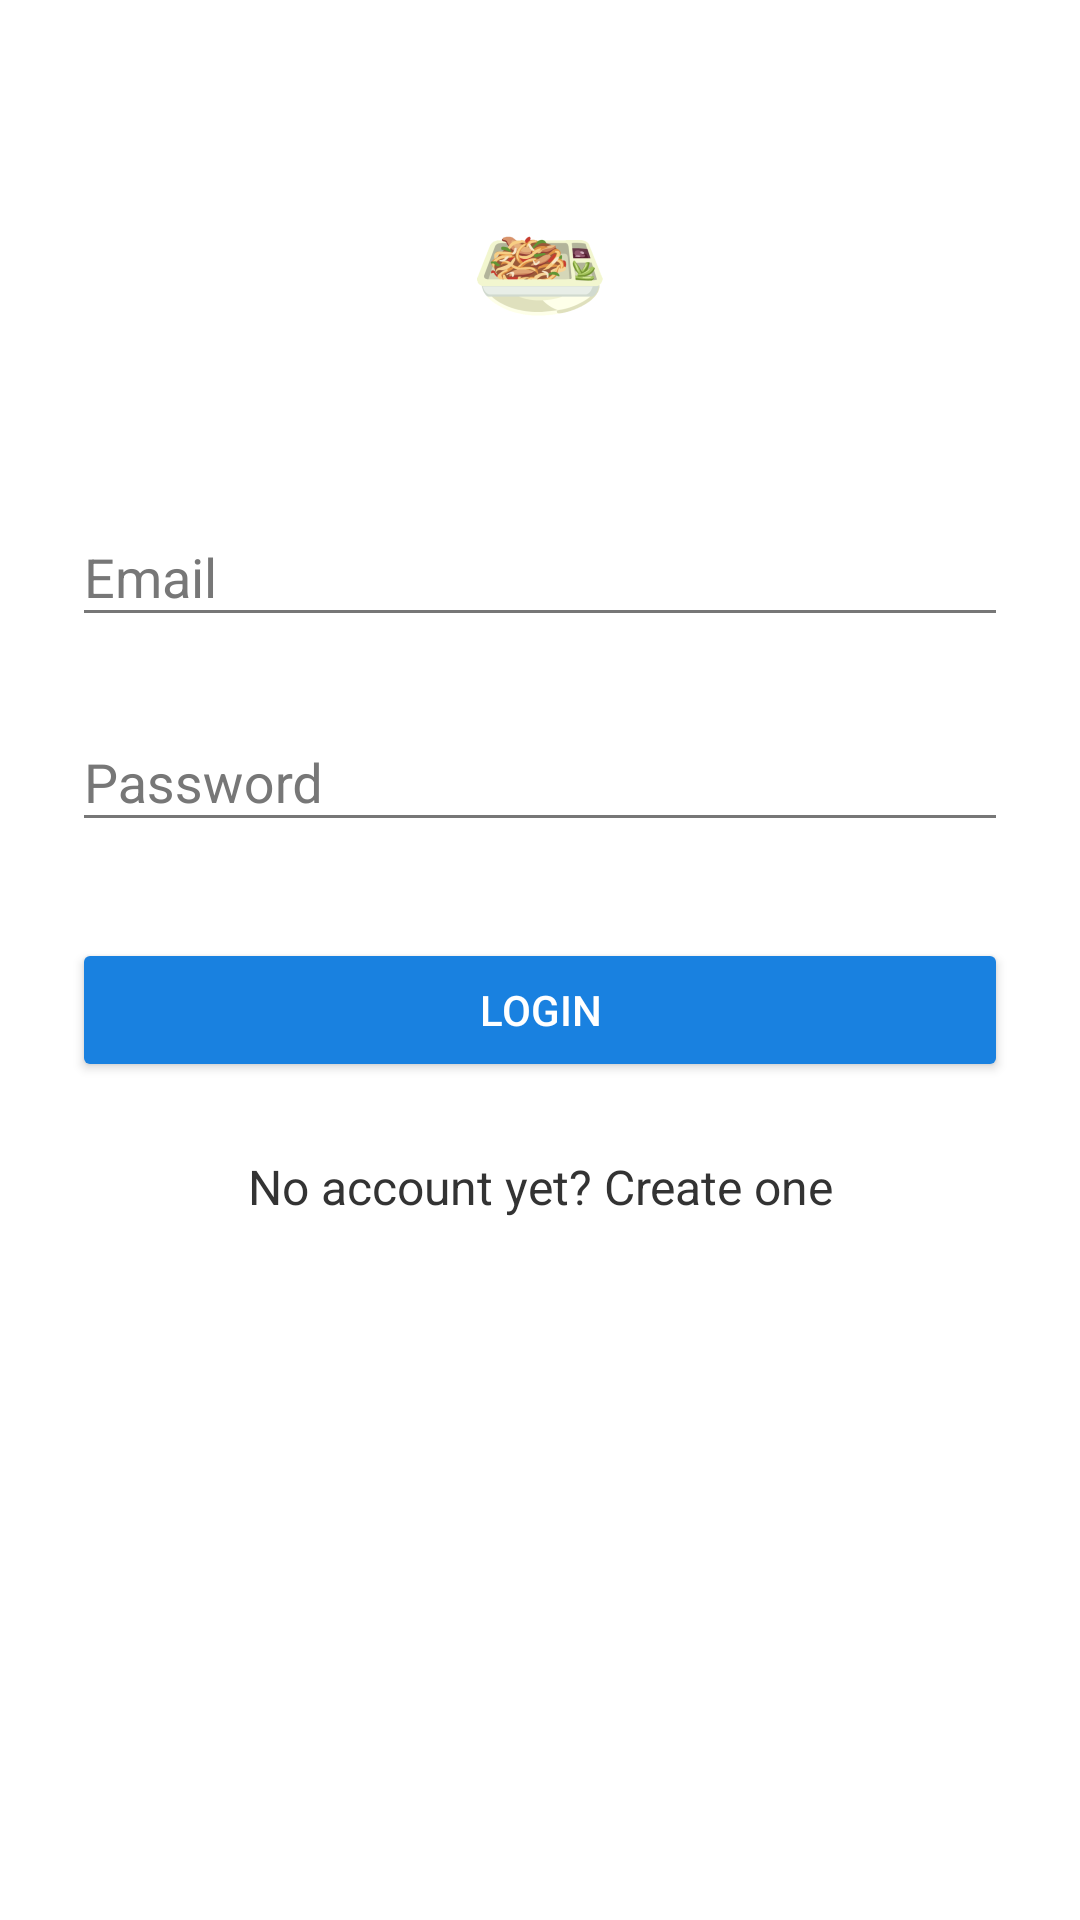

Locate icon controls on the screen. Image size 1080x1920, boxes as (x1, y1, x2, y2).
meal: (477, 236, 603, 314)
